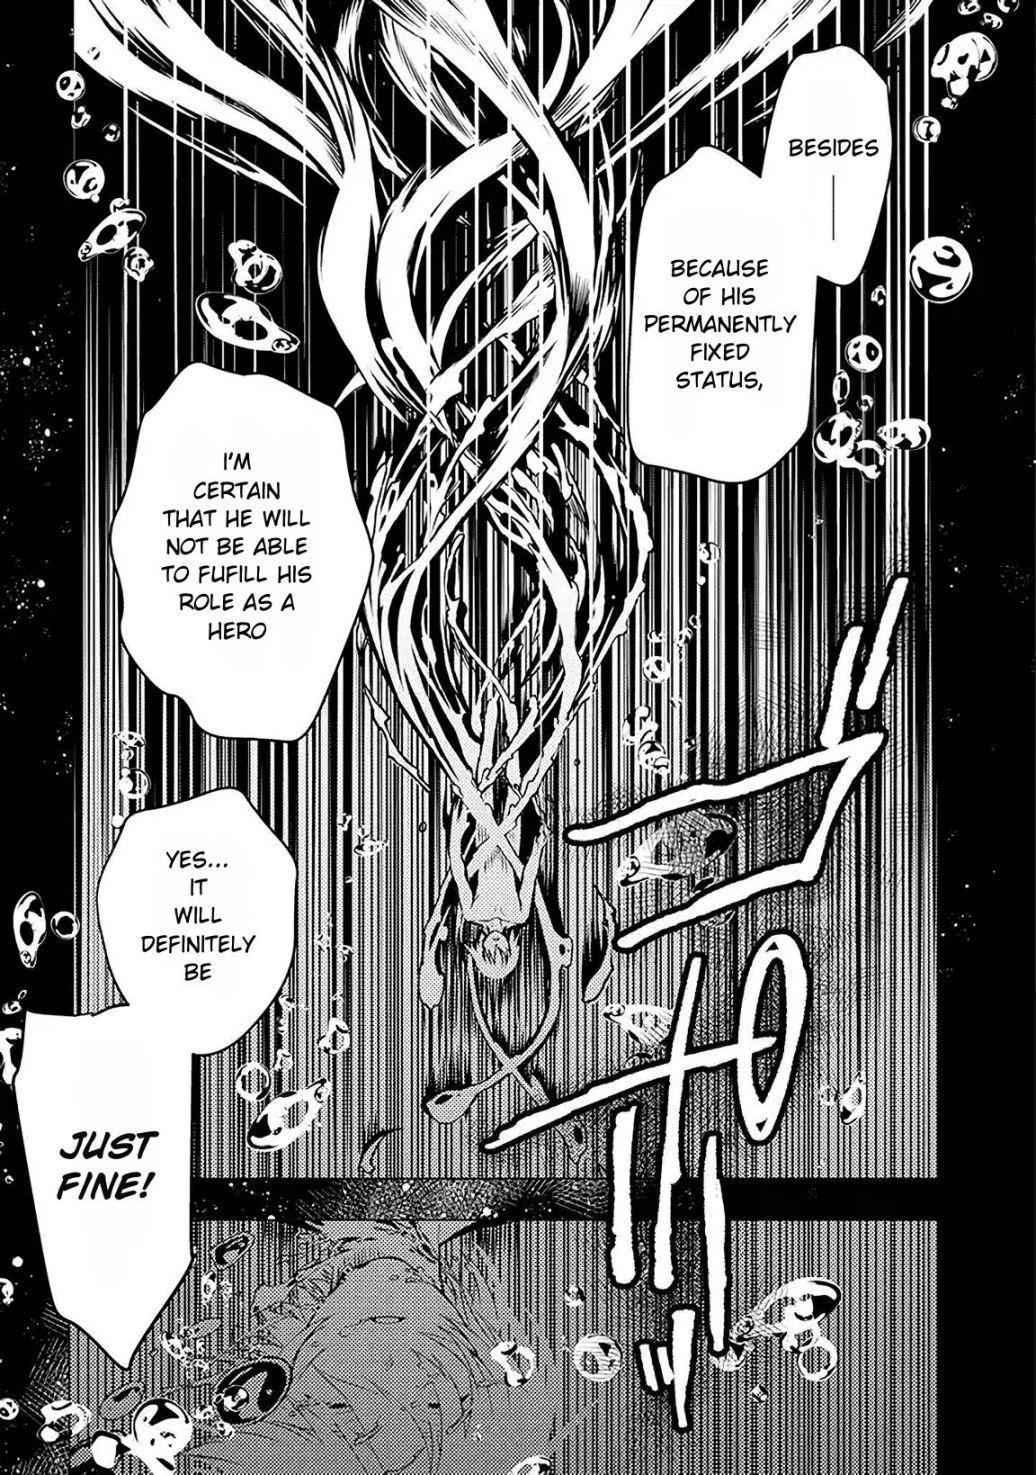Bubble: (104, 361, 378, 744), (11, 1050, 201, 1371), (619, 252, 818, 488), (95, 785, 304, 1004), (760, 41, 896, 245)
